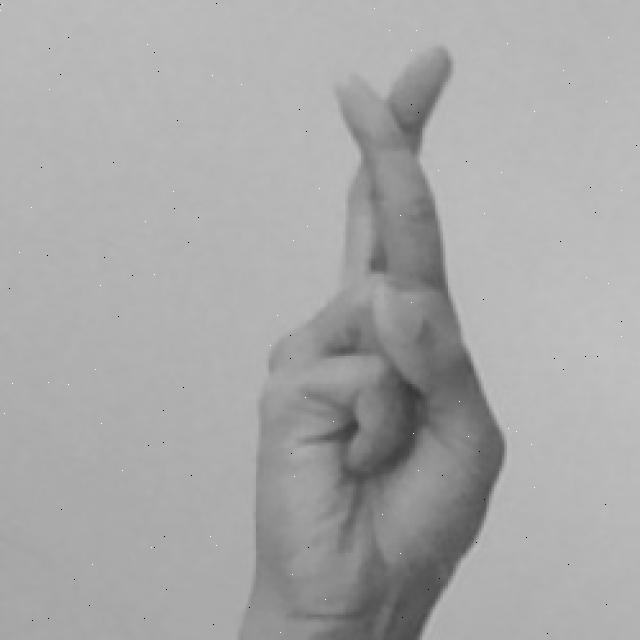R: (218, 38, 512, 640)
